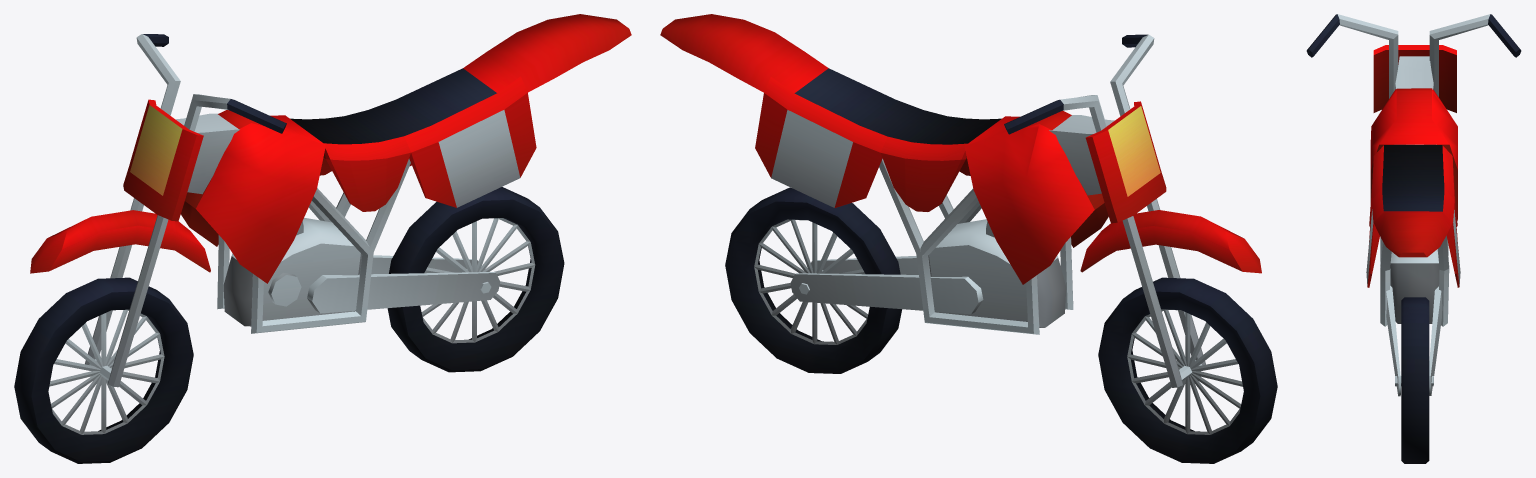
Rendered from motorcycleModel.FBX.
3 renders of one model, left to right at view 1: azimuth 30°, elevation 25°; view 2: azimuth 150°, elevation 25°; view 3: azimuth 270°, elevation 25°, orthographic. The views are drawn at different scales.
Visible parts, largest first — view 1: Bic1, Bic9, Bic10, Bic2, Bic5, Bic6, Bic4, Bic3, Bic11, Bic12, Bic16, Bic7 (+2 smaller); view 2: Bic1, Bic9, Bic10, Bic2, Bic5, Bic6, Bic8, Bic3, Bic17, Bic16, Bic12, Bic7 (+2 smaller); view 3: Bic1, Bic10, Bic2, Bic6, Bic5, Bic12, Bic16, Bic7, Bic8, Bic4, Bic17, Bic11.
Part boxes in pixels (bbox=[...]): Bic1: bbox=[290, 14, 631, 211]; Bic9: bbox=[14, 277, 193, 463]; Bic10: bbox=[387, 187, 564, 372]; Bic2: bbox=[181, 110, 325, 283]; Bic5: bbox=[223, 217, 361, 326]; Bic6: bbox=[123, 99, 203, 221]; Bic4: bbox=[307, 272, 500, 313]; Bic3: bbox=[30, 210, 210, 273]; Bic11: bbox=[251, 158, 410, 333]; Bic12: bbox=[108, 94, 286, 387]; Bic16: bbox=[85, 34, 180, 364]; Bic7: bbox=[175, 113, 239, 194]; Bic1: bbox=[660, 14, 1001, 211]; Bic9: bbox=[1098, 277, 1277, 463]; Bic10: bbox=[725, 187, 901, 373]; Bic2: bbox=[964, 111, 1108, 284]; Bic5: bbox=[928, 219, 1066, 327]; Bic6: bbox=[1085, 101, 1166, 223]; Bic8: bbox=[790, 273, 983, 314]; Bic3: bbox=[1080, 210, 1261, 273]; Bic17: bbox=[879, 158, 1039, 334]; Bic16: bbox=[1004, 95, 1182, 387]; Bic12: bbox=[1110, 34, 1205, 365]; Bic7: bbox=[1049, 115, 1114, 195]; Bic1: bbox=[1366, 145, 1460, 287]; Bic10: bbox=[1401, 297, 1429, 463]; Bic2: bbox=[1370, 88, 1457, 220]; Bic6: bbox=[1373, 45, 1456, 112]; Bic5: bbox=[1390, 144, 1439, 323]; Bic12: bbox=[1306, 14, 1398, 98]; Bic16: bbox=[1429, 14, 1521, 96]; Bic7: bbox=[1394, 56, 1435, 144]; Bic8: bbox=[1429, 286, 1442, 395]; Bic4: bbox=[1386, 269, 1400, 396]; Bic17: bbox=[1436, 144, 1449, 326]; Bic11: bbox=[1380, 237, 1391, 326].
Bounding box in the file's own units: 108 × 63.65 × 38.7.
